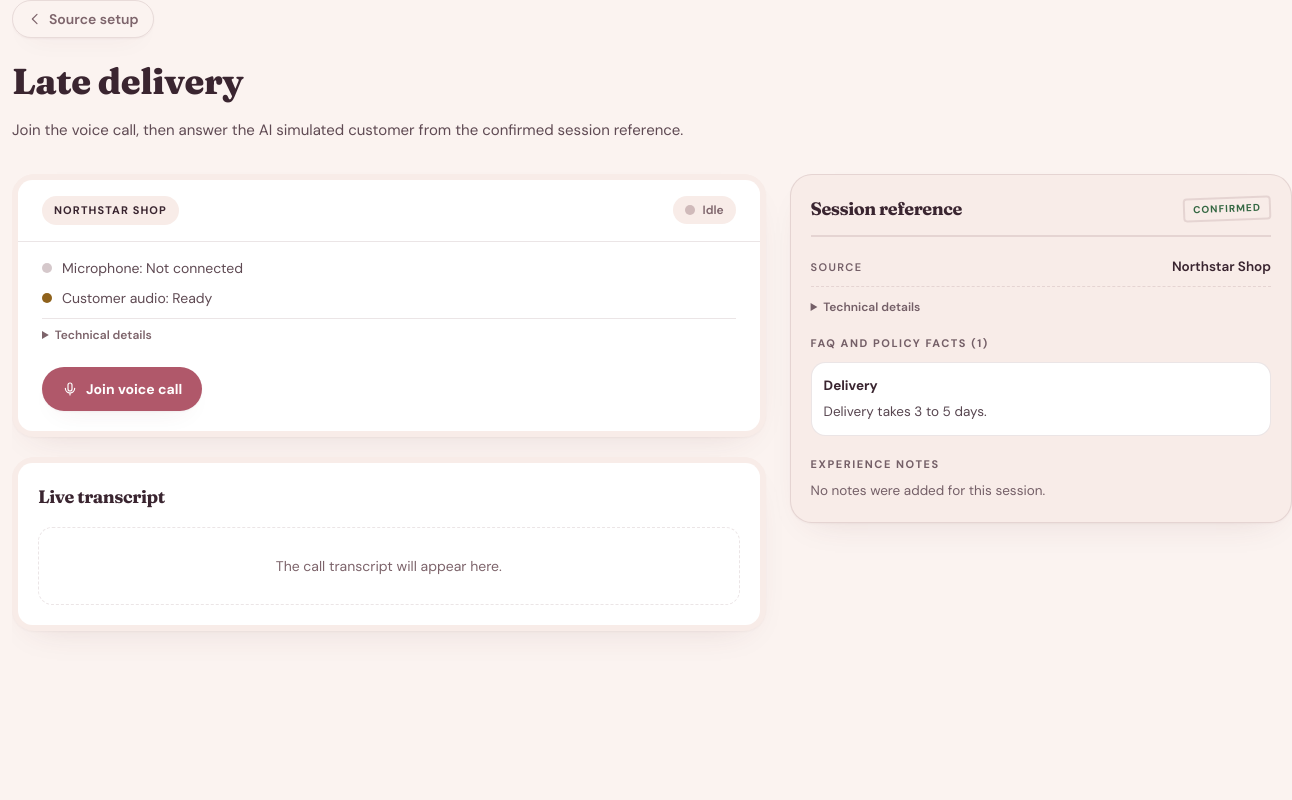
Test: CallConsole voice-only practice › shows a retry state when browser microphone permission is denied
The width and height of the screenshot is (1292, 800).
Click the button "Join voice call". click: coordinates (122, 389)
box: [42, 367, 202, 411]
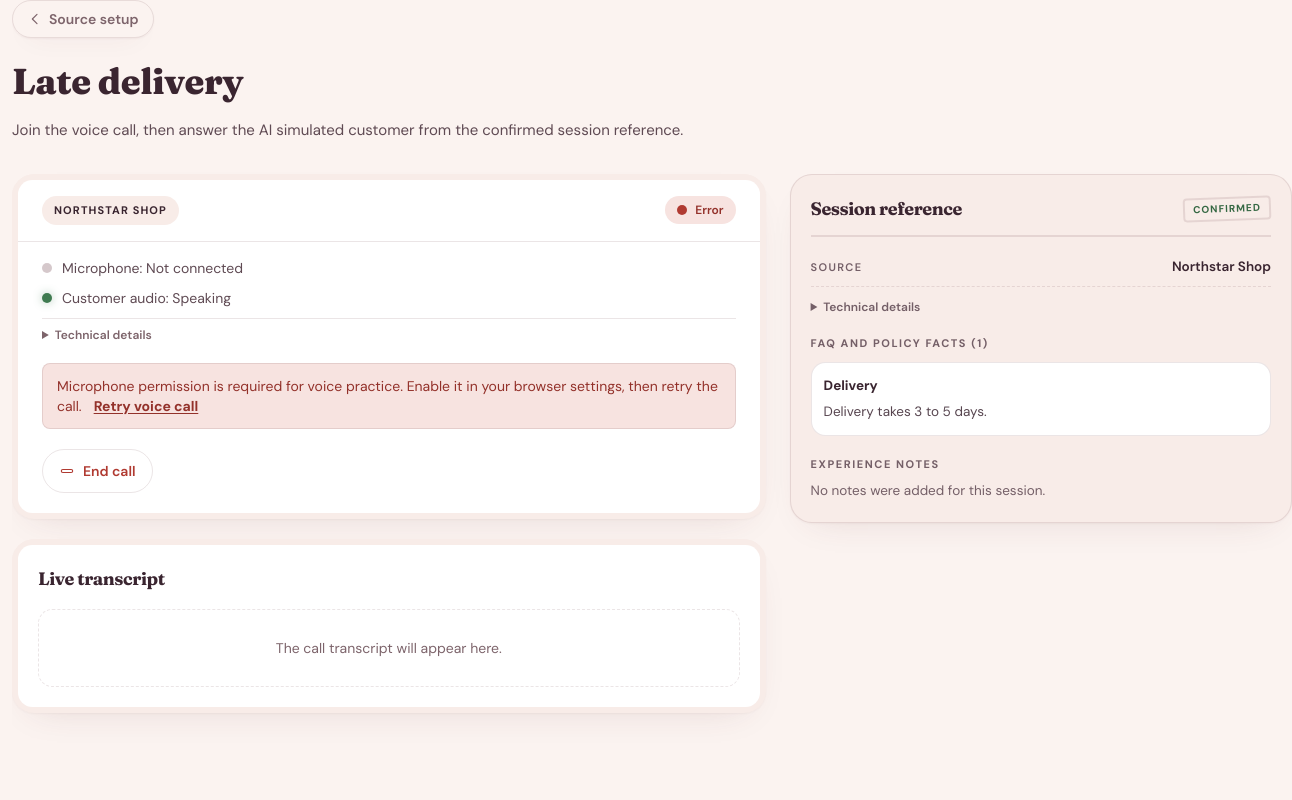
Expected: the message shows "Microphone permission is required", [57, 377, 718, 415]
Expected: the button "Retry voice call" is shown, [94, 396, 198, 416]
